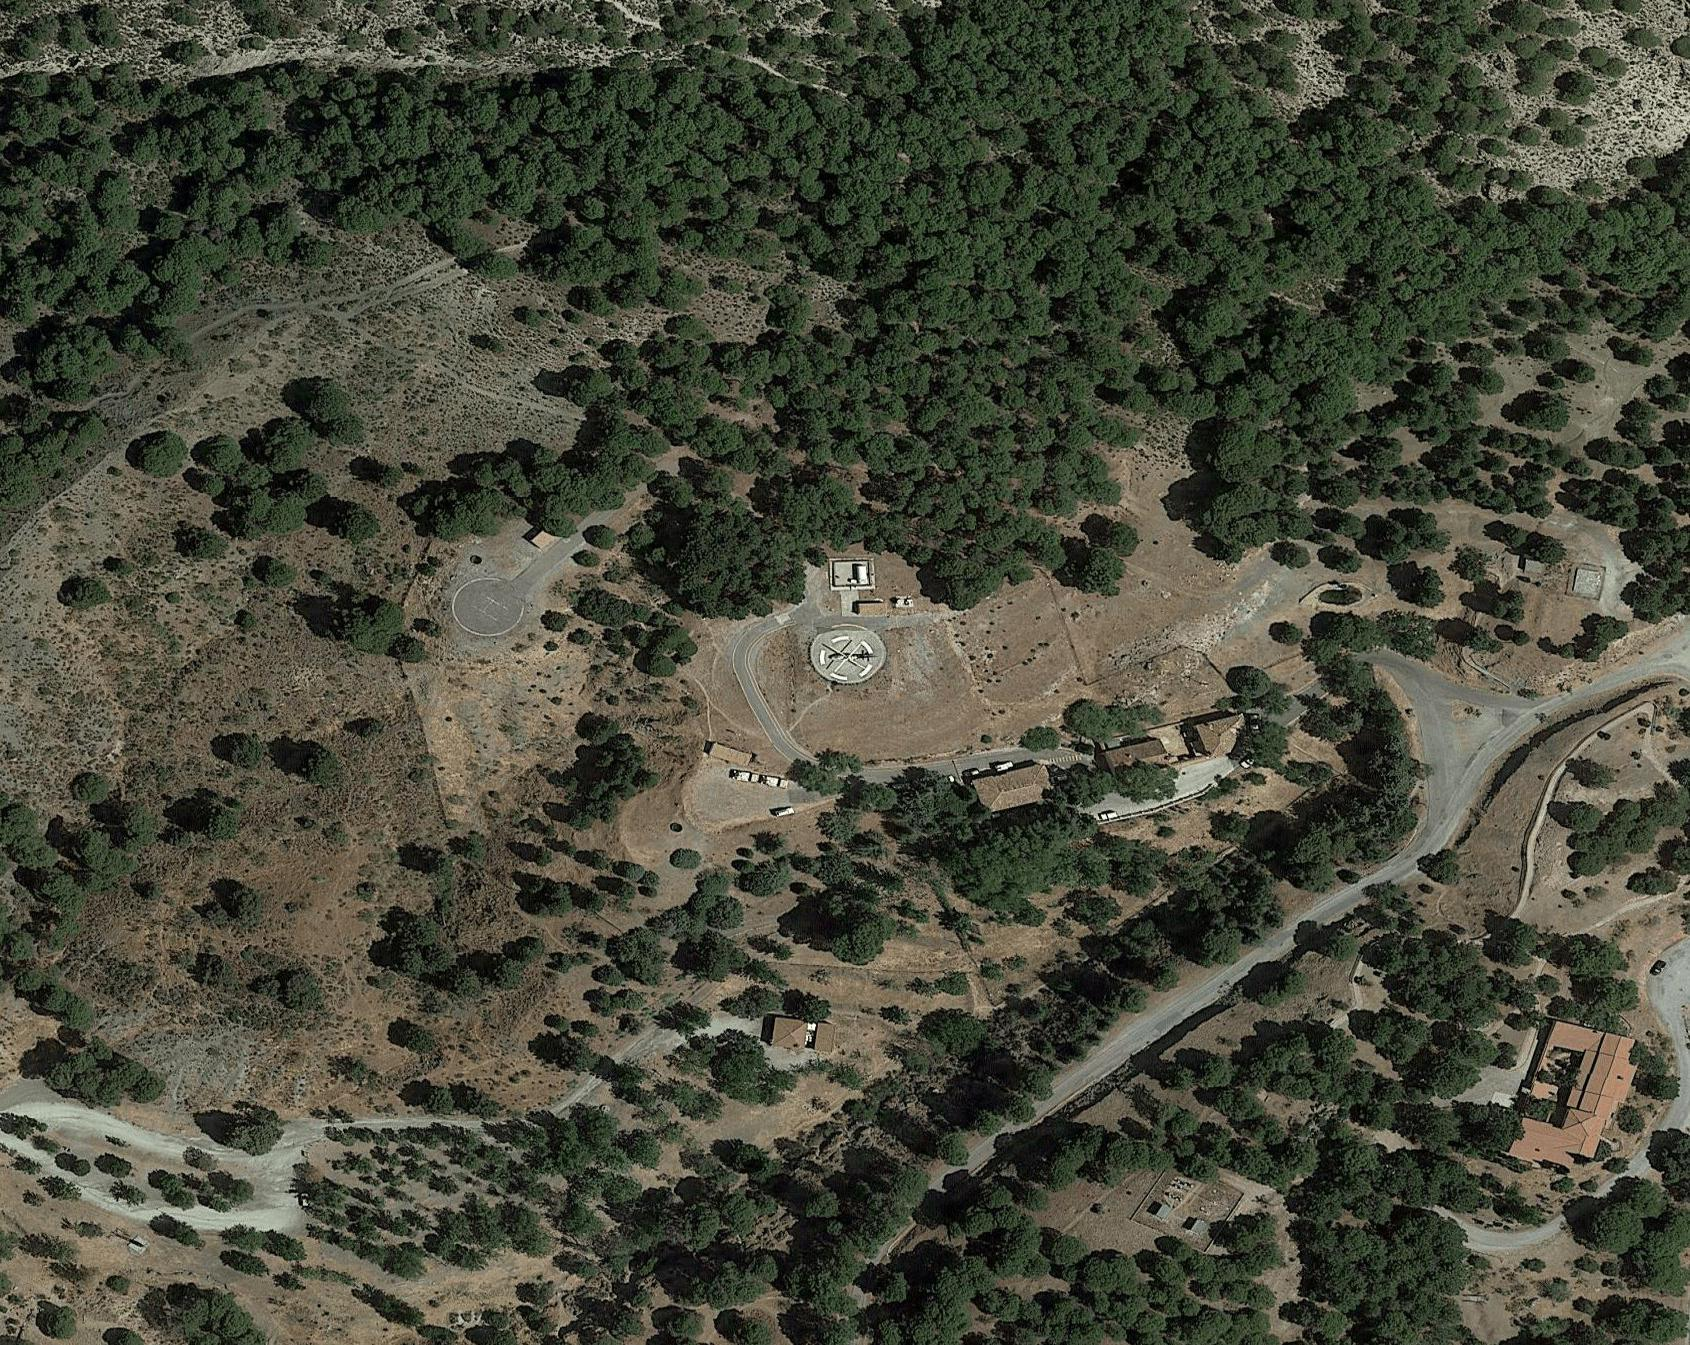helicopter: (826, 645, 870, 666)
helipad: (808, 623, 898, 690)
